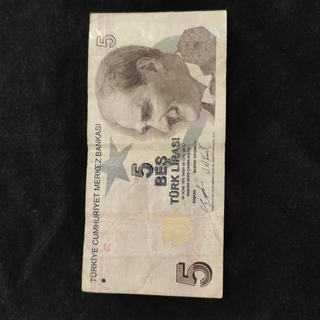5TLFront: (81, 6, 228, 298)
